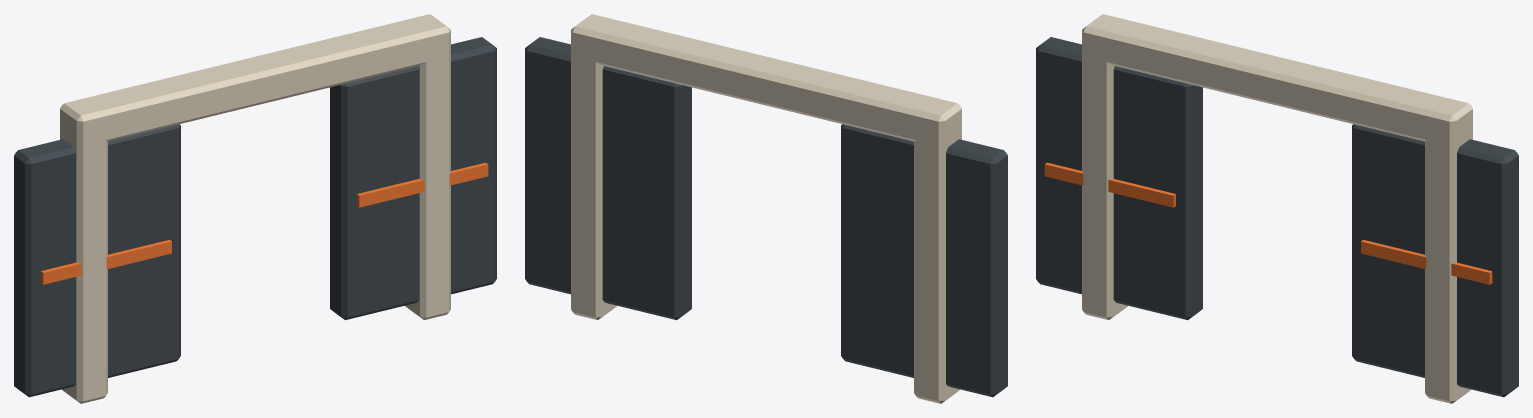
File: LP_AirlockDoor.fbx
3 renders of one model, left to right at view 1: azimuth 30°, elevation 25°; view 2: azimuth 150°, elevation 25°; view 3: azimuth 330°, elevation 25°, orthographic.
Parts seen in each view (by area): view 1: Airlock_Left_Panel, Airlock_Right_Panel, Airlock_FrameTop, Airlock_FrameL, Airlock_FrameR, Airlock_Right_Stripe, Airlock_Left_Stripe; view 2: Airlock_Left_Panel, Airlock_Right_Panel, Airlock_FrameTop, Airlock_FrameL, Airlock_FrameR; view 3: Airlock_Right_Panel, Airlock_Left_Panel, Airlock_FrameTop, Airlock_FrameR, Airlock_FrameL, Airlock_Left_Stripe, Airlock_Right_Stripe.
Boxes of the visible parts, left/top/right/bottom form: Airlock_Left_Panel: left=14, top=124, right=180, bottom=397; Airlock_Right_Panel: left=330, top=37, right=496, bottom=320; Airlock_FrameTop: left=60, top=14, right=450, bottom=145; Airlock_FrameL: left=60, top=125, right=107, bottom=403; Airlock_FrameR: left=405, top=47, right=450, bottom=319; Airlock_Right_Stripe: left=357, top=162, right=488, bottom=207; Airlock_Left_Stripe: left=40, top=239, right=171, bottom=284; Airlock_Left_Panel: left=841, top=124, right=1007, bottom=397; Airlock_Right_Panel: left=525, top=37, right=691, bottom=320; Airlock_FrameTop: left=571, top=14, right=961, bottom=144; Airlock_FrameL: left=914, top=125, right=961, bottom=403; Airlock_FrameR: left=571, top=46, right=616, bottom=319; Airlock_Right_Panel: left=1352, top=124, right=1518, bottom=397; Airlock_Left_Panel: left=1036, top=37, right=1202, bottom=320; Airlock_FrameTop: left=1082, top=14, right=1472, bottom=145; Airlock_FrameR: left=1425, top=125, right=1472, bottom=403; Airlock_FrameL: left=1082, top=46, right=1127, bottom=319; Airlock_Left_Stripe: left=1044, top=162, right=1175, bottom=207; Airlock_Right_Stripe: left=1361, top=239, right=1492, bottom=284.
Bounding box in the file's own units: 454 × 265 × 36.
